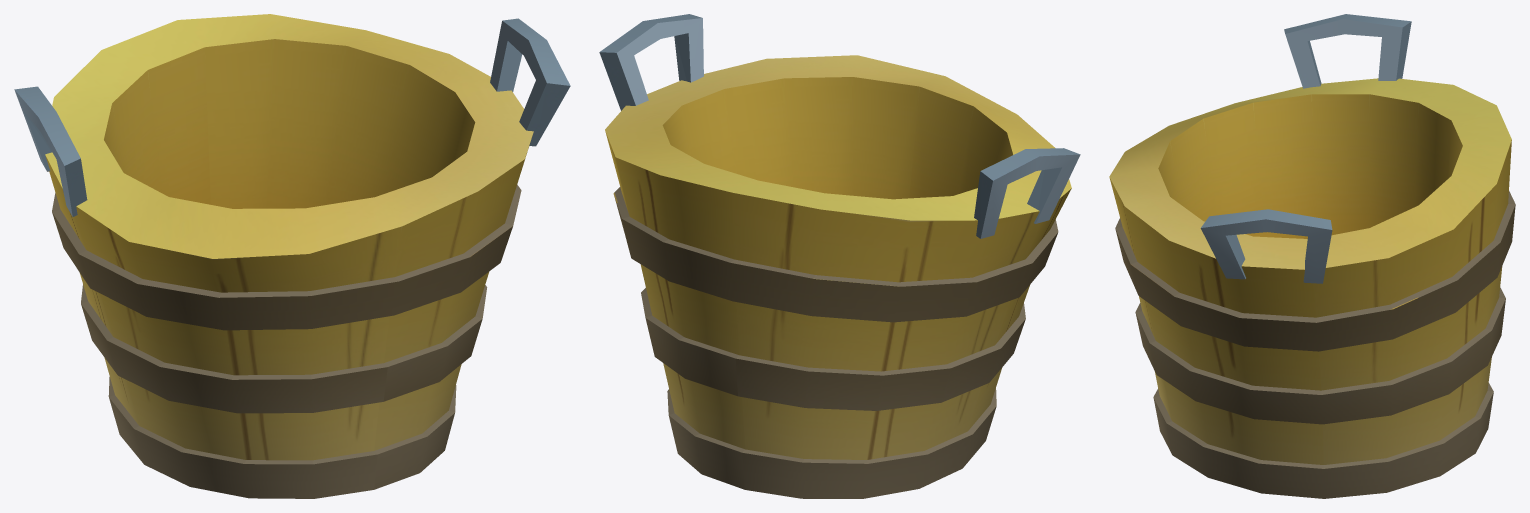
File: saabucket.dae
3 renders of one model, left to right at view 1: azimuth 30°, elevation 25°; view 2: azimuth 150°, elevation 25°; view 3: azimuth 270°, elevation 25°, orthographic. The views are drawn at different scales.
Parts seen in each view (by area): view 1: Bucket; view 2: Bucket; view 3: Bucket.
Boxes of the visible parts, x1=… form: Bucket: x1=14, y1=14, x2=570, y2=498; Bucket: x1=599, y1=14, x2=1080, y2=498; Bucket: x1=1109, y1=14, x2=1515, y2=498.
Size of the model in its own units: 36.04 by 26.05 by 29.45.
